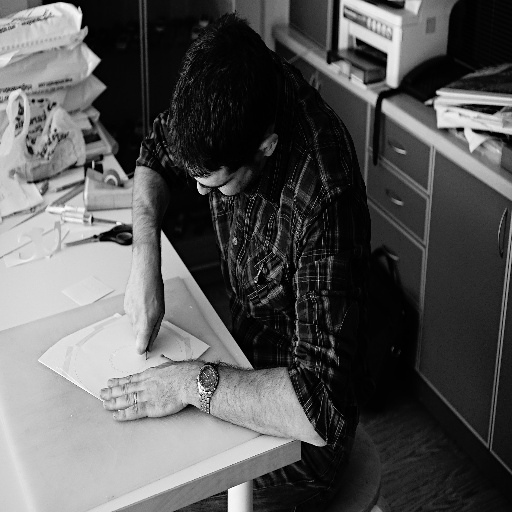hand: (96, 353, 230, 426), (121, 257, 166, 356)
